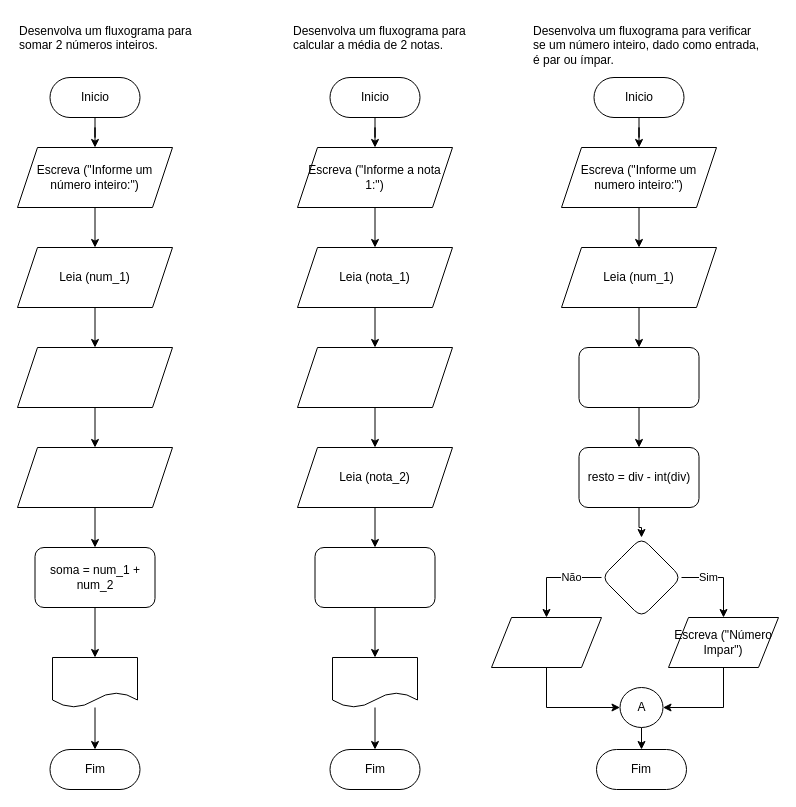
The diagram is 796 pixels wide and 807 high, and some of its shapes have lost their labels. The box of each missing label's shape, as (x1, y1, x2, y2) in pixels:
div = num_1 / 2: (578, 346, 699, 408)
Escreva ("Informe a nota 2:"): (296, 346, 452, 408)
Escreva ("Informe outro número inteiro:"): (16, 346, 172, 408)
Escreva ("Número Par"): (490, 616, 602, 668)
Leia (num_2): (16, 446, 172, 508)
media: (332, 656, 418, 708)
media = (nota_1+ nota_2) / 2: (314, 546, 435, 608)
resto > 0: (600, 536, 682, 618)
soma: (52, 656, 138, 708)
